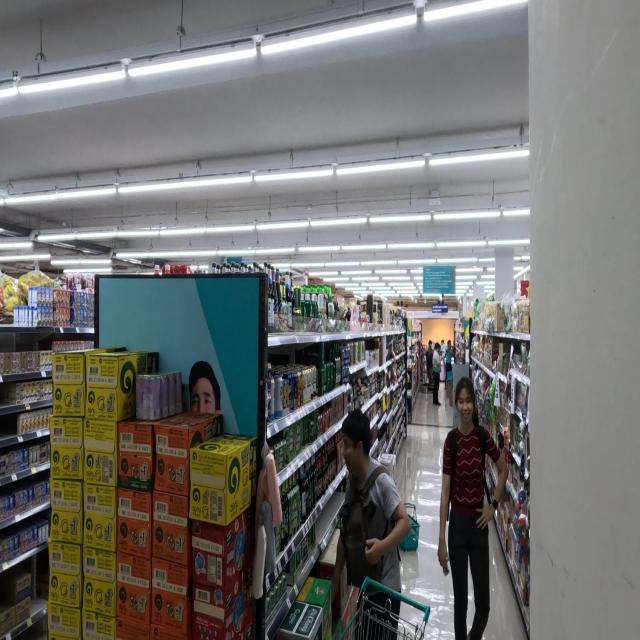shoplifting: (331, 410, 404, 640)
